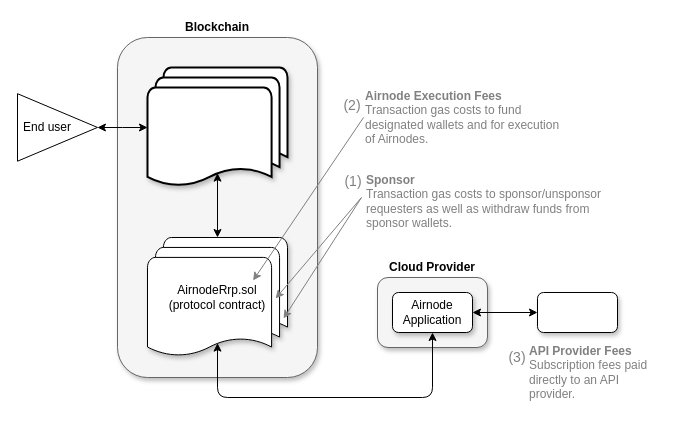
This 675x424 diagram has some shape labels left out. Each missing label, with the centre of its shape:
APIs: the point at 578,314
Requester Contract(s): the point at 218,128
